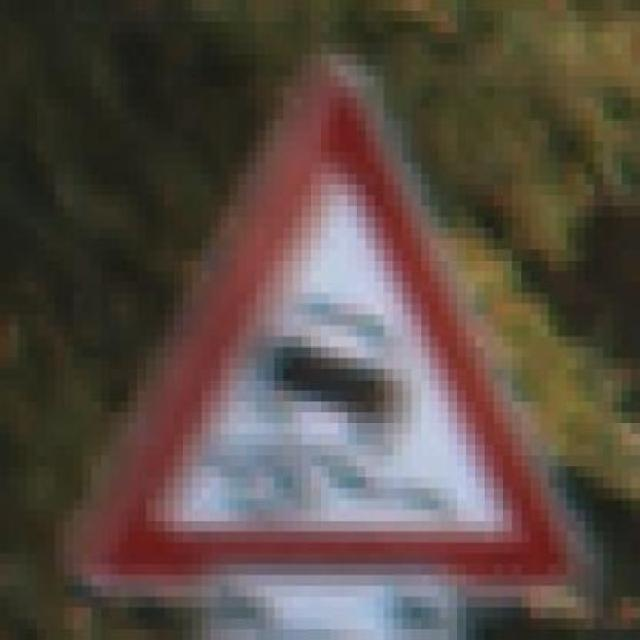Slippery Road Ahead: (73, 32, 585, 597)
